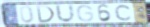0: (19, 5, 36, 24)
6: (97, 4, 113, 23)
C: (114, 4, 134, 22)
D: (35, 4, 56, 24)
G: (76, 4, 95, 22)
U: (54, 4, 77, 24)
